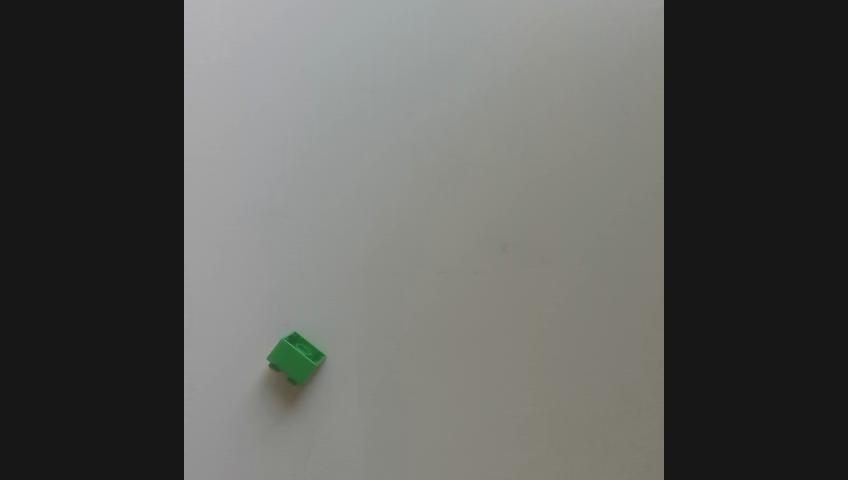2x2_green: (265, 329, 324, 382)
